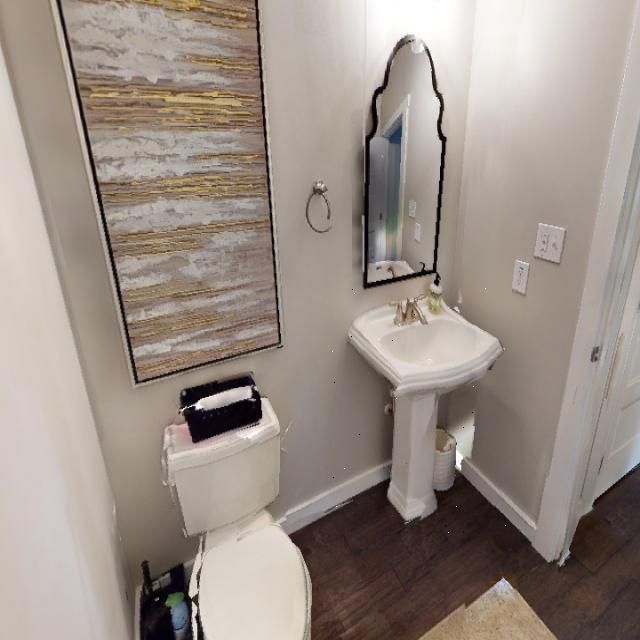sink: (332, 286, 507, 550)
toilet: (167, 363, 323, 640)
